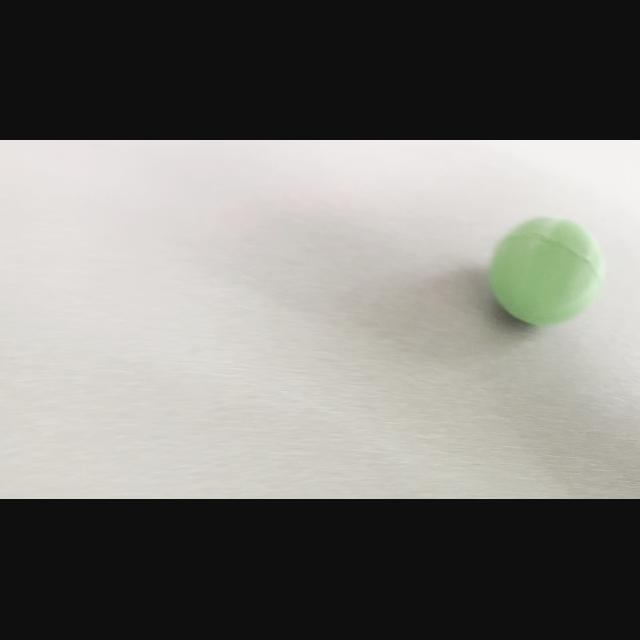objects: (476, 209, 614, 331)
